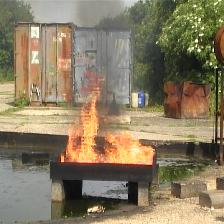fire: (61, 87, 155, 166)
